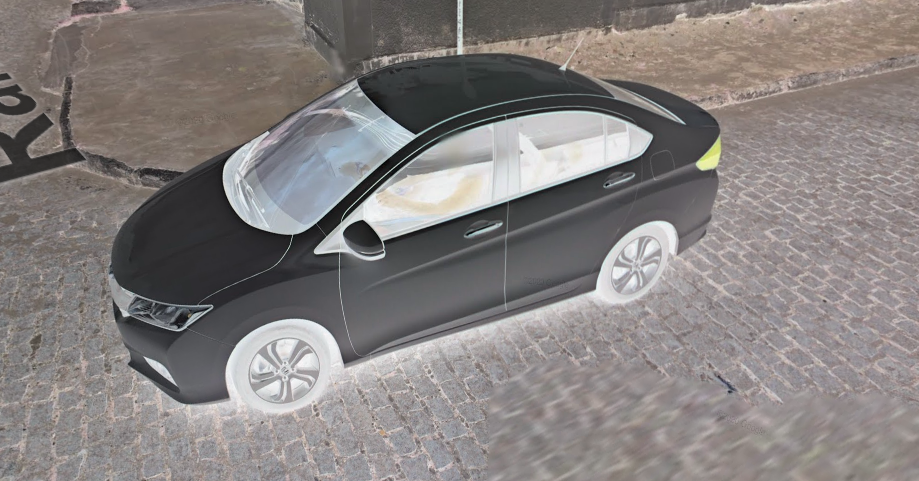car: (106, 34, 724, 421)
